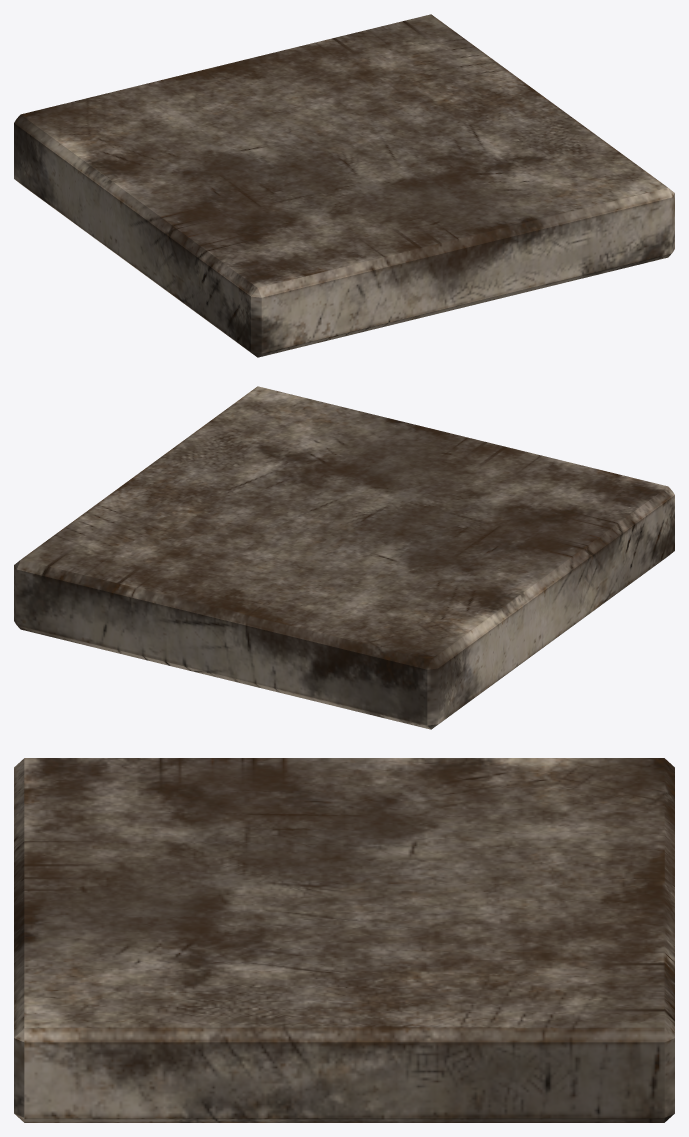
Rendered from ground-var2.fbx.
3 renders of one model, top to bottom at view 1: azimuth 30°, elevation 25°; view 2: azimuth 150°, elevation 25°; view 3: azimuth 270°, elevation 25°, orthographic. The views are drawn at different scales.
Visible parts, largest first — view 1: GON_3Denviornment:pCube1; view 2: GON_3Denviornment:pCube1; view 3: GON_3Denviornment:pCube1.
Boxes of the visible parts, x1,y1,x2,y2 form: GON_3Denviornment:pCube1: (14,14,674,357); GON_3Denviornment:pCube1: (14,386,674,729); GON_3Denviornment:pCube1: (14,758,674,1122).
Size of the model in its own units: 6.36 by 1 by 6.36.
1 material, 1 textured.
